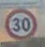limite 30: (4, 8, 37, 41)
